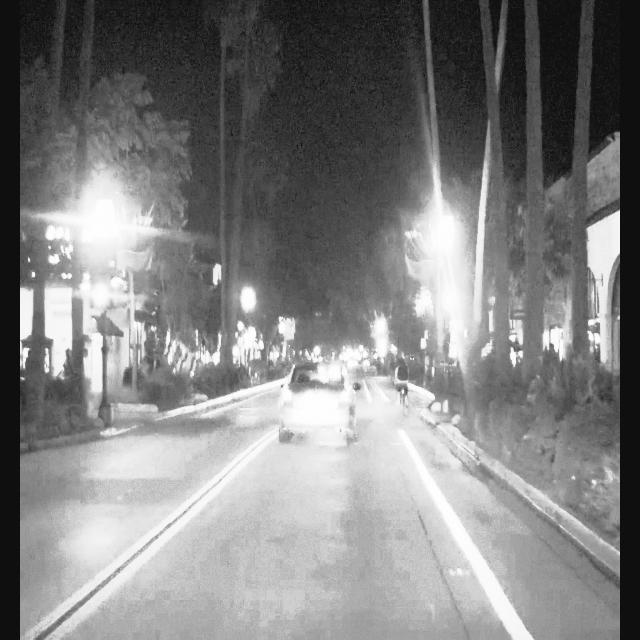Light: (90, 257, 108, 306)
Tree: (562, 2, 605, 508), (474, 3, 514, 457), (517, 0, 551, 473), (62, 2, 99, 432)
